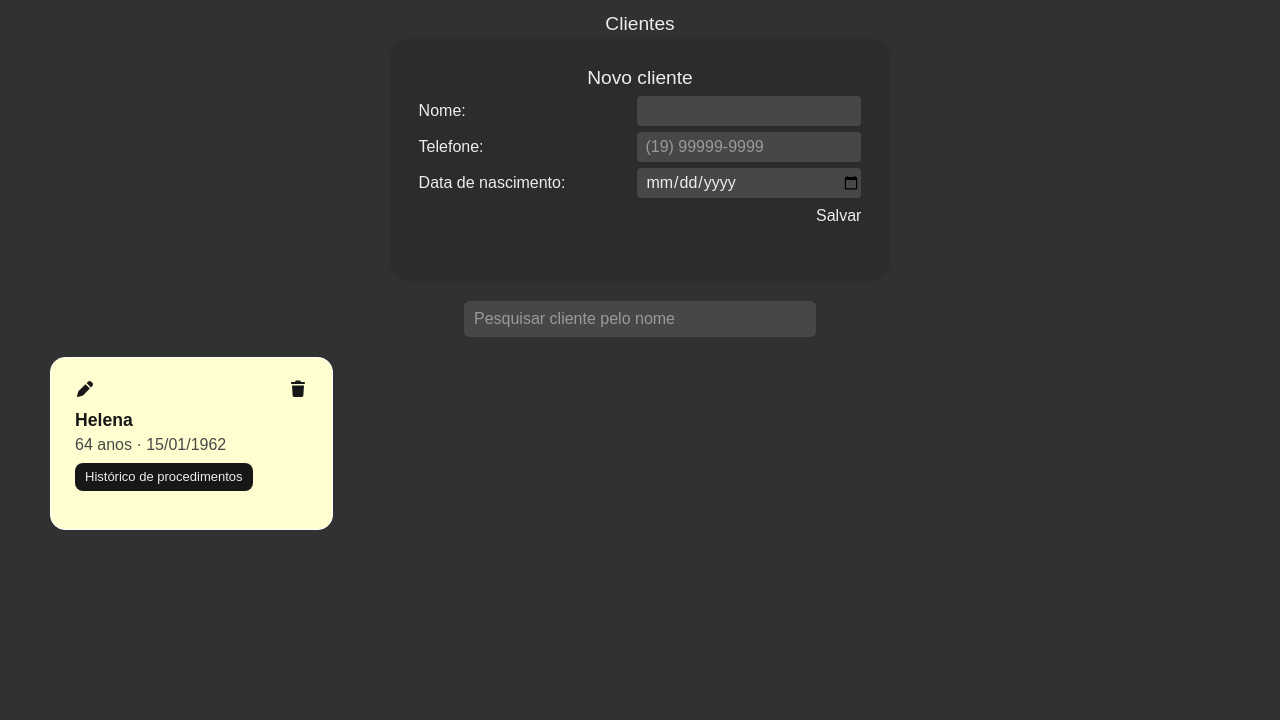
Test: telas › excluir cliente pede confirmação e só apaga ao confirmar
Later steps or results of the test are not shown.
Click the button named "Excluir Helena": (298, 390) [288, 378, 308, 402]
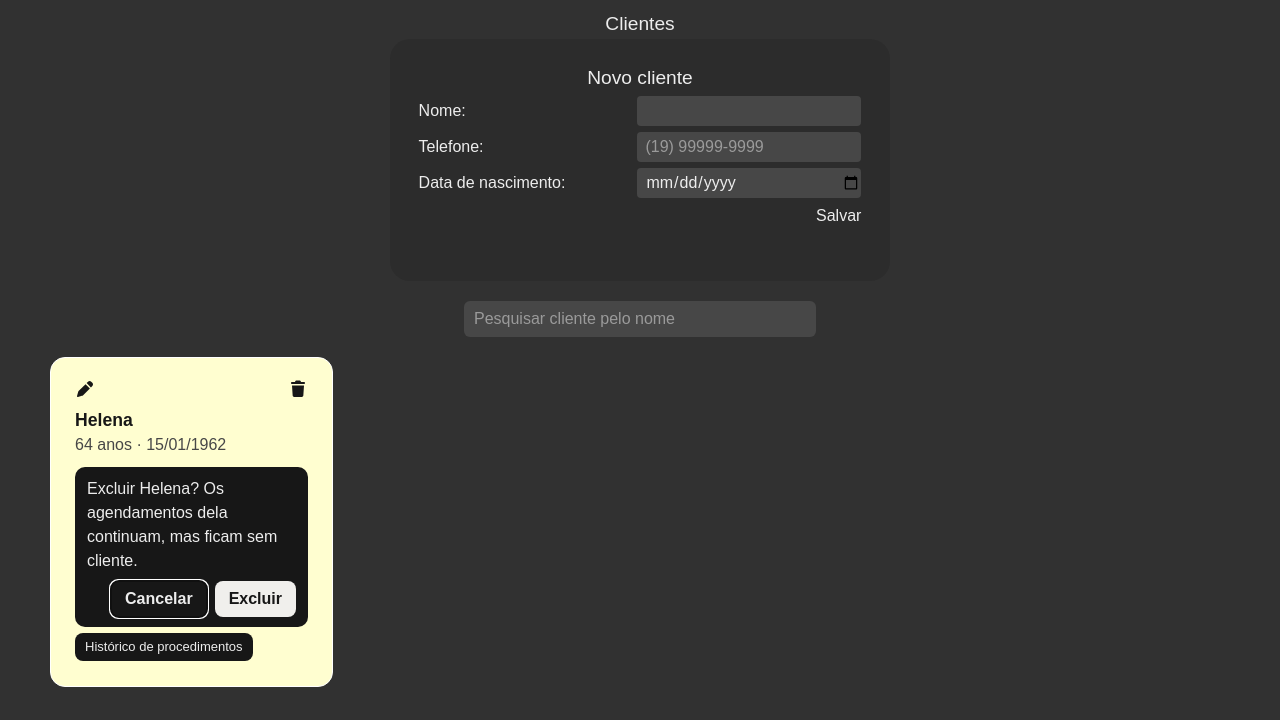
Click the button "Cancelar": (159, 599) [111, 581, 207, 617]
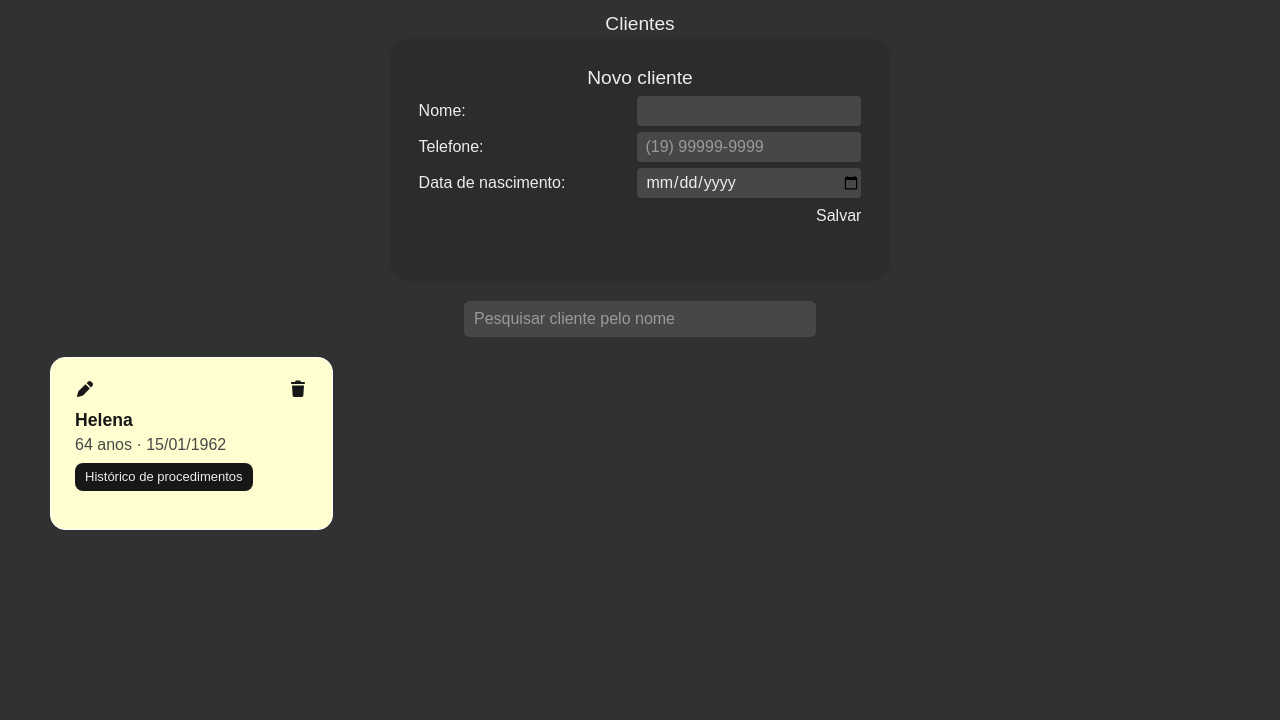
Expected: the dialog is gone
